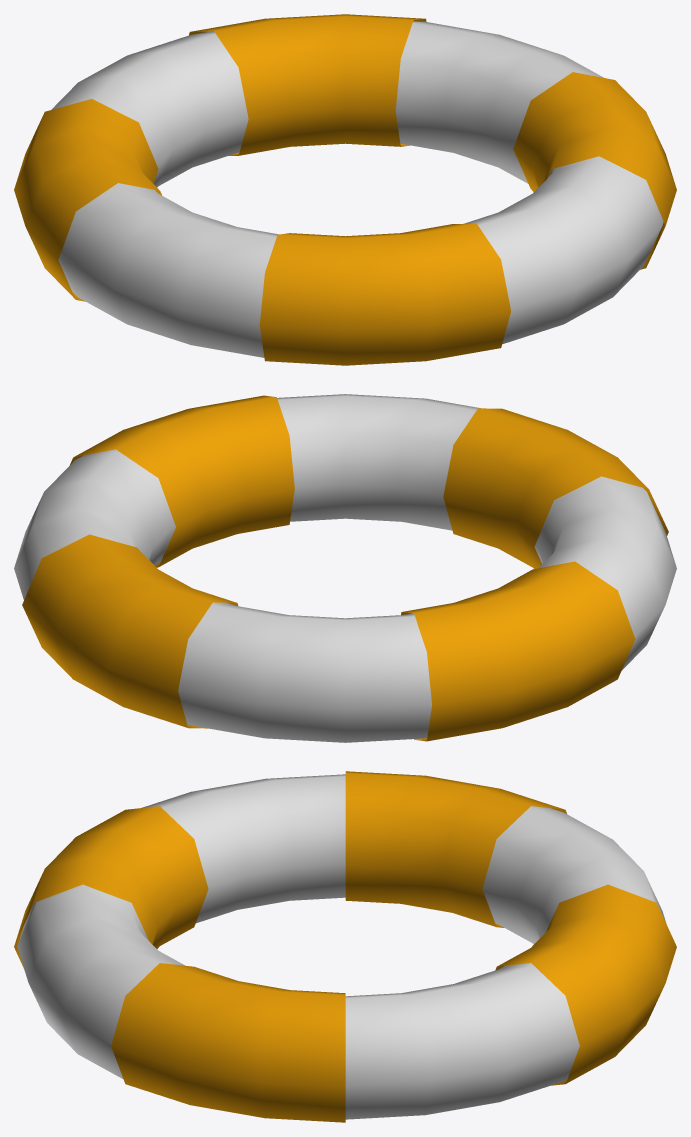
Rendered from waterCurl.glb.
3 views of the same model, one above another, from view 1: azimuth 30°, elevation 25°; view 2: azimuth 150°, elevation 25°; view 3: azimuth 270°, elevation 25° (orthographic).
Parts seen in each view (by area): view 1: Torus, Torus.001; view 2: Torus.001, Torus; view 3: Torus.001, Torus.
Boxes of the visible parts, x1,y1,x2,y2 form: Torus: (51, 21, 663, 357); Torus.001: (14, 14, 676, 365); Torus.001: (22, 395, 668, 741); Torus: (14, 394, 676, 742); Torus.001: (14, 771, 676, 1122); Torus: (17, 774, 666, 1119).
Bounding box in the file's own units: 0.7251 × 0.1508 × 0.7251.
